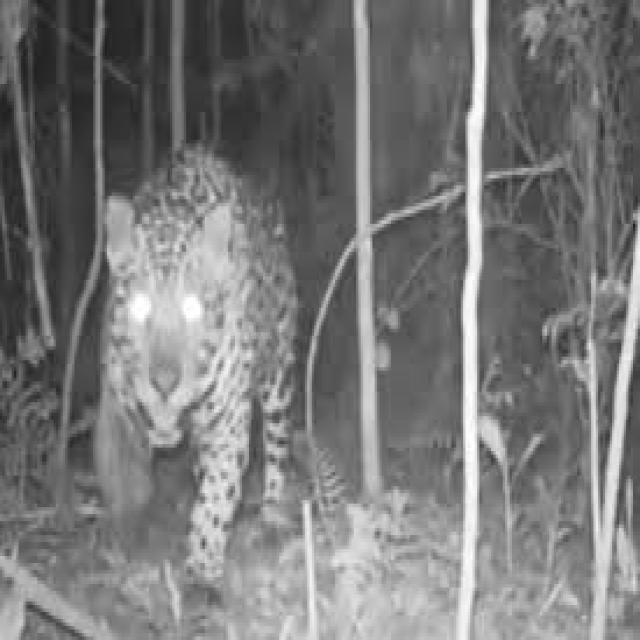Jaguar: (89, 140, 302, 584)
